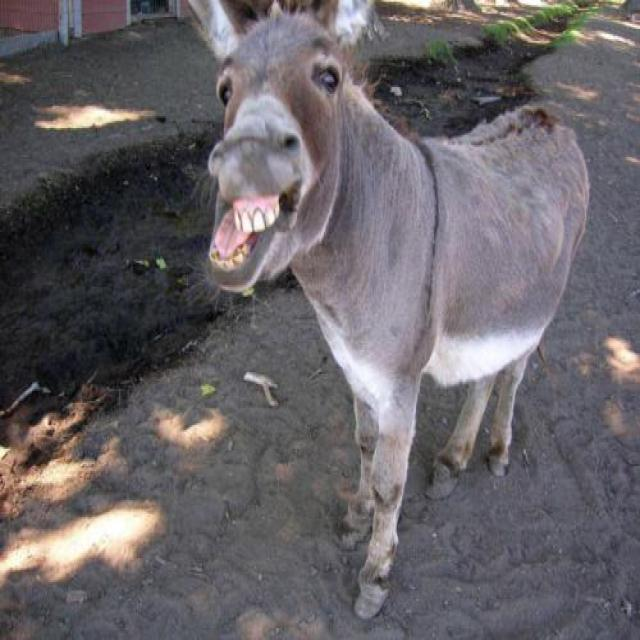Donkey: (187, 0, 588, 621)
